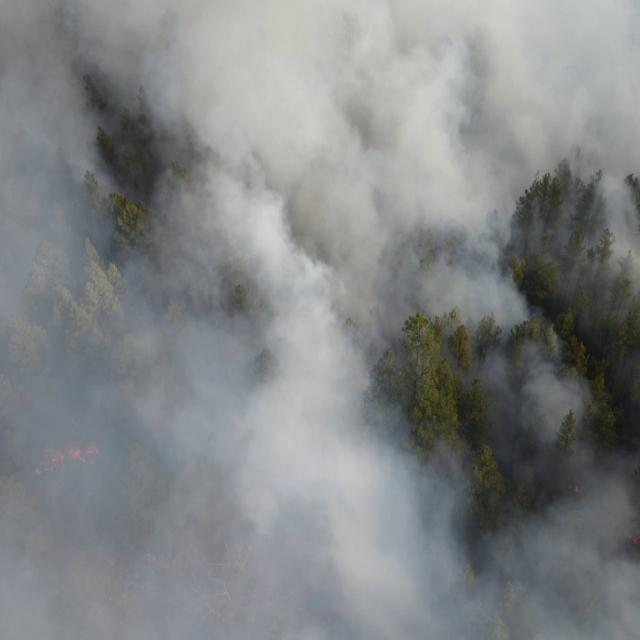fire: (30, 440, 100, 476), (620, 525, 640, 547), (566, 482, 587, 496), (428, 550, 441, 564)
smoke: (0, 0, 414, 640), (414, 0, 640, 368), (475, 367, 640, 639), (414, 426, 476, 640)
